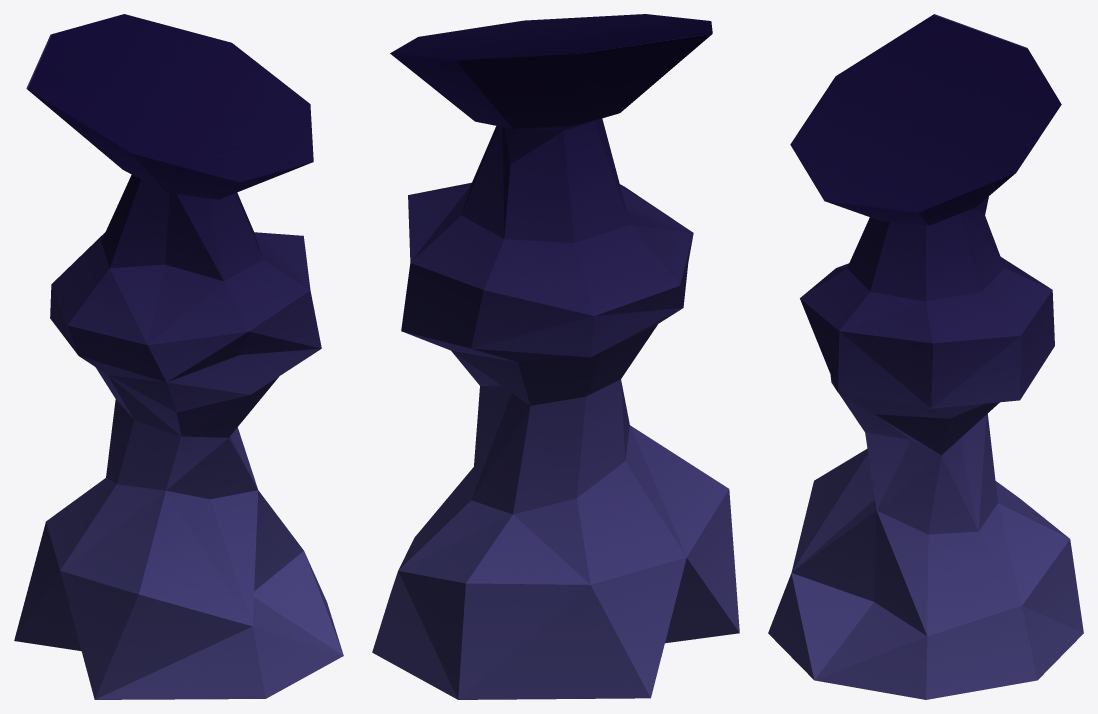
The model's file is MOD_Waypoint (2).fbx.
3 renders of one model, left to right at view 1: azimuth 30°, elevation 25°; view 2: azimuth 150°, elevation 25°; view 3: azimuth 270°, elevation 25°, orthographic. The views are drawn at different scales.
Parts seen in each view (by area): view 1: MOD_Waypoint2; view 2: MOD_Waypoint2; view 3: MOD_Waypoint2.
Boxes of the visible parts, x1,y1,x2,y2 form: MOD_Waypoint2: (14,14,343,699); MOD_Waypoint2: (372,14,739,699); MOD_Waypoint2: (768,14,1083,699).
Bounding box in the file's own units: 2.67 × 5.01 × 2.61.
